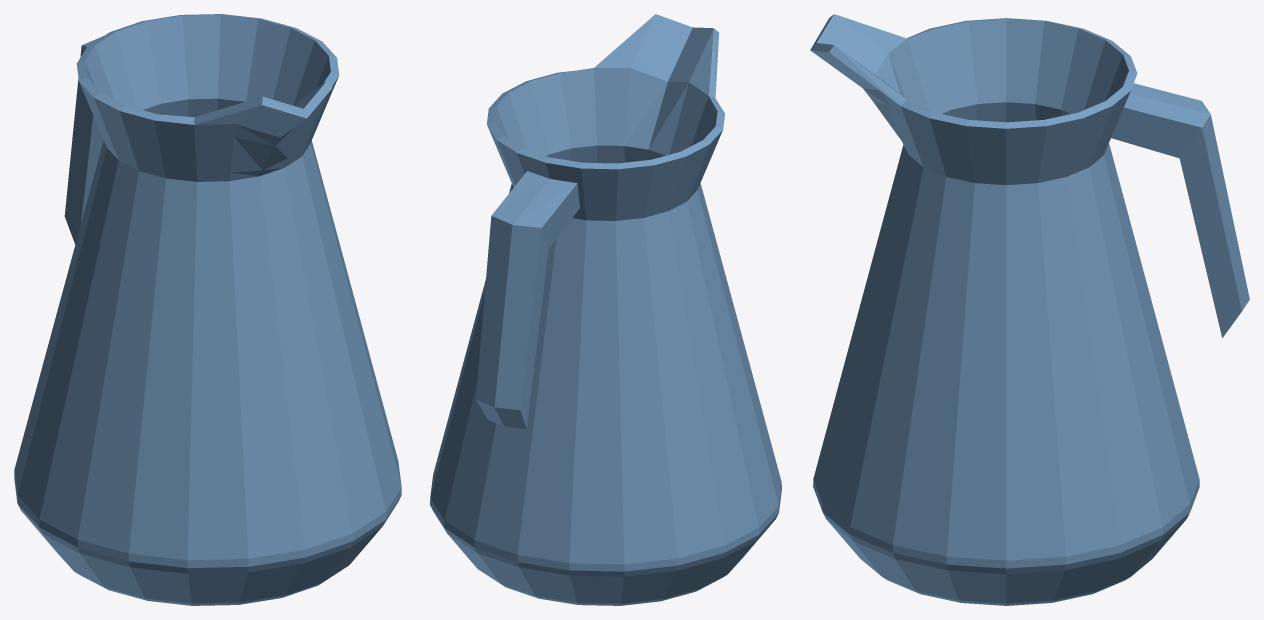
3 renders of one model, left to right at view 1: azimuth 30°, elevation 25°; view 2: azimuth 150°, elevation 25°; view 3: azimuth 270°, elevation 25°, orthographic. The views are drawn at different scales.
Parts seen in each view (by area): view 1: Jug; view 2: Jug; view 3: Jug.
Boxes of the visible parts, box(x1,y1,x2,y2) form: Jug: box(14, 14, 401, 605); Jug: box(430, 14, 781, 605); Jug: box(810, 14, 1249, 605).
Bounding box in the file's own units: 28.46 × 41.91 × 32.37.
Materials: 1 (1 with a texture image).
